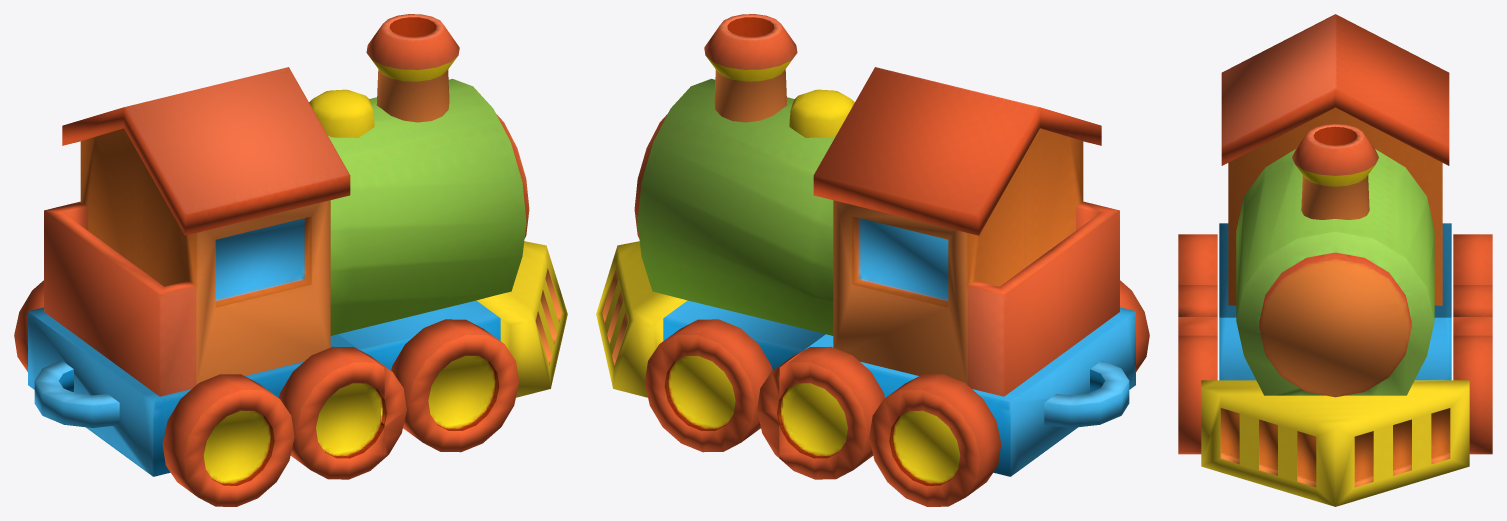
Rendered from train.glb.
3 views of the same model, side by side, from view 1: azimuth 30°, elevation 25°; view 2: azimuth 150°, elevation 25°; view 3: azimuth 270°, elevation 25° (orthographic). The views are drawn at different scales.
Visible parts, largest first — view 1: planet.001, planet; view 2: planet.001, planet; view 3: planet, planet.001.
Boxes of the visible parts, left/top/right/bottom form: planet.001: left=14, top=67, right=384, bottom=506; planet: left=309, top=14, right=567, bottom=457; planet.001: left=779, top=67, right=1149, bottom=506; planet: left=596, top=14, right=854, bottom=457; planet: left=1178, top=124, right=1492, bottom=506; planet.001: left=1178, top=14, right=1492, bottom=317.
Size of the model in its own units: 1.54 by 0.9902 by 0.8596.
1 material, 1 textured.
